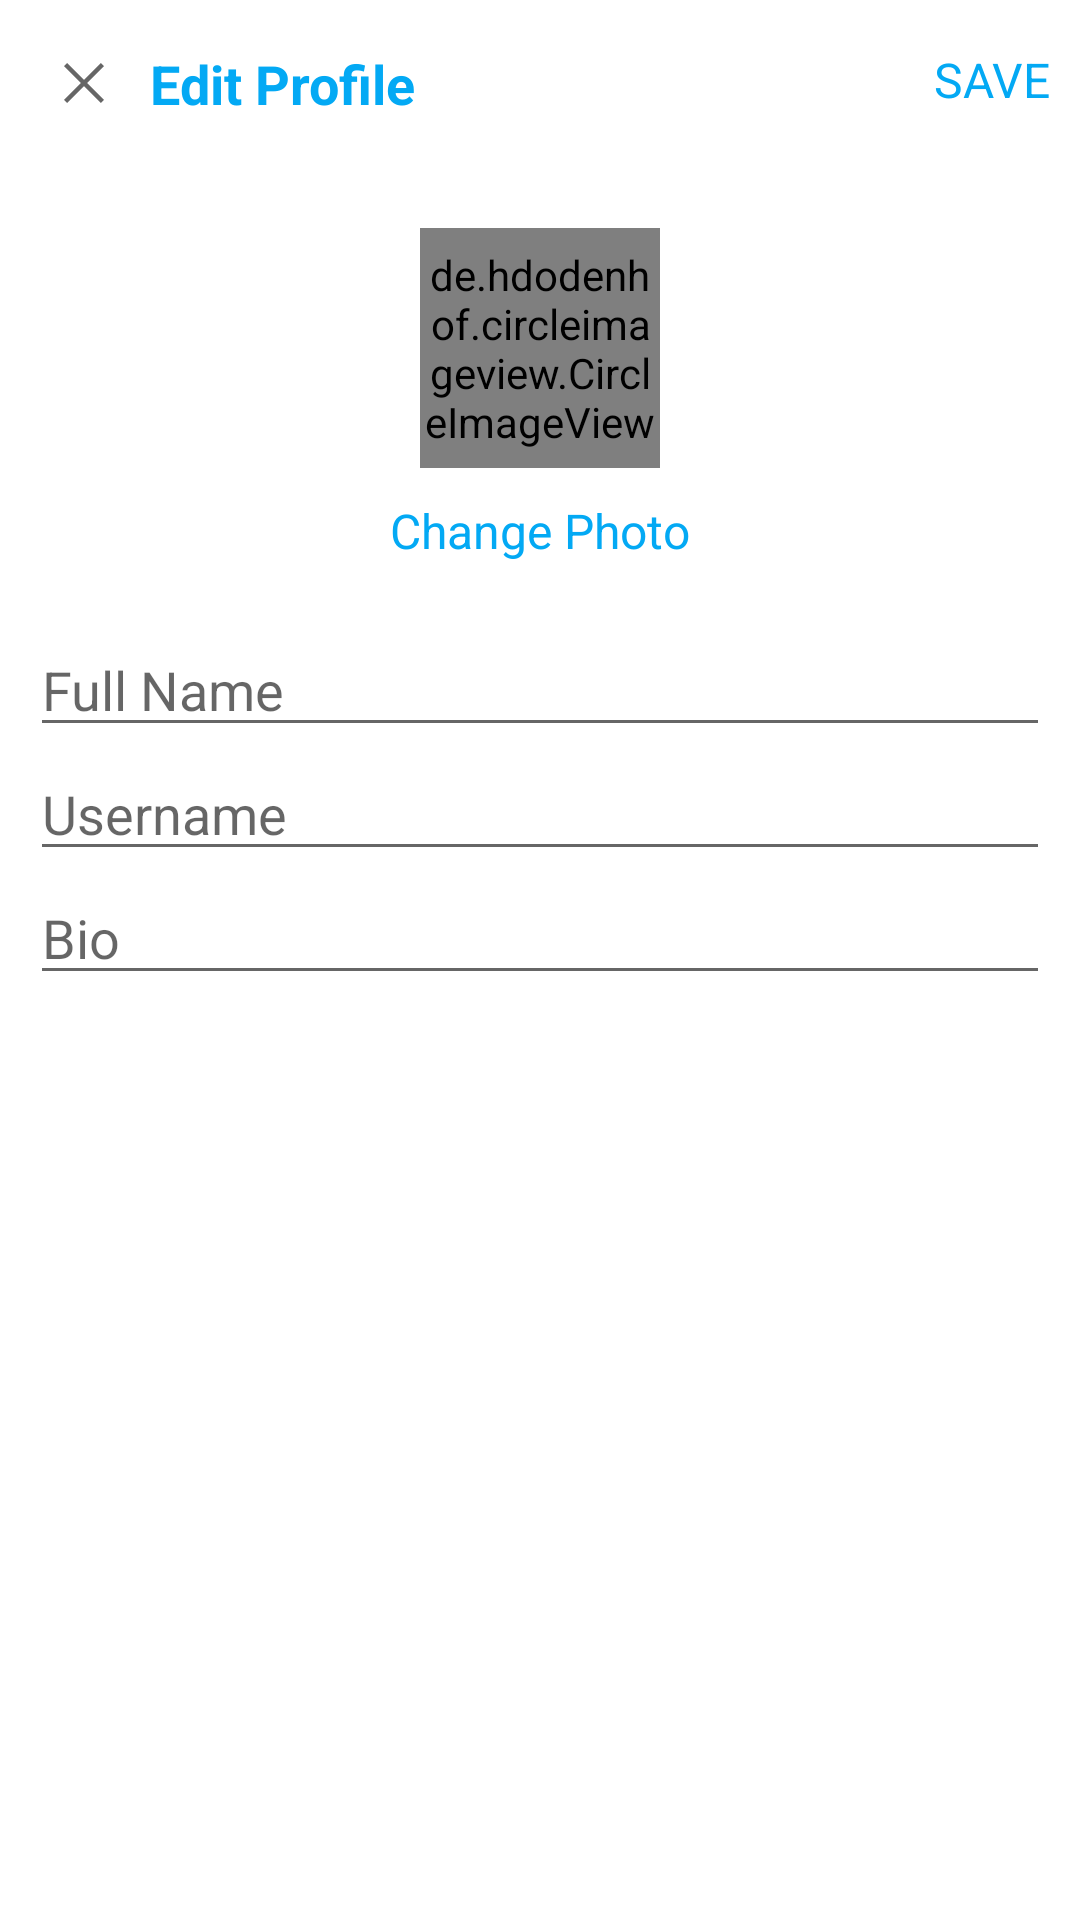

Screen size 1080px x 1920px. Icon name, then its box in pixels as (x1, y1, x2, y2):
close: (64, 63, 104, 103)
